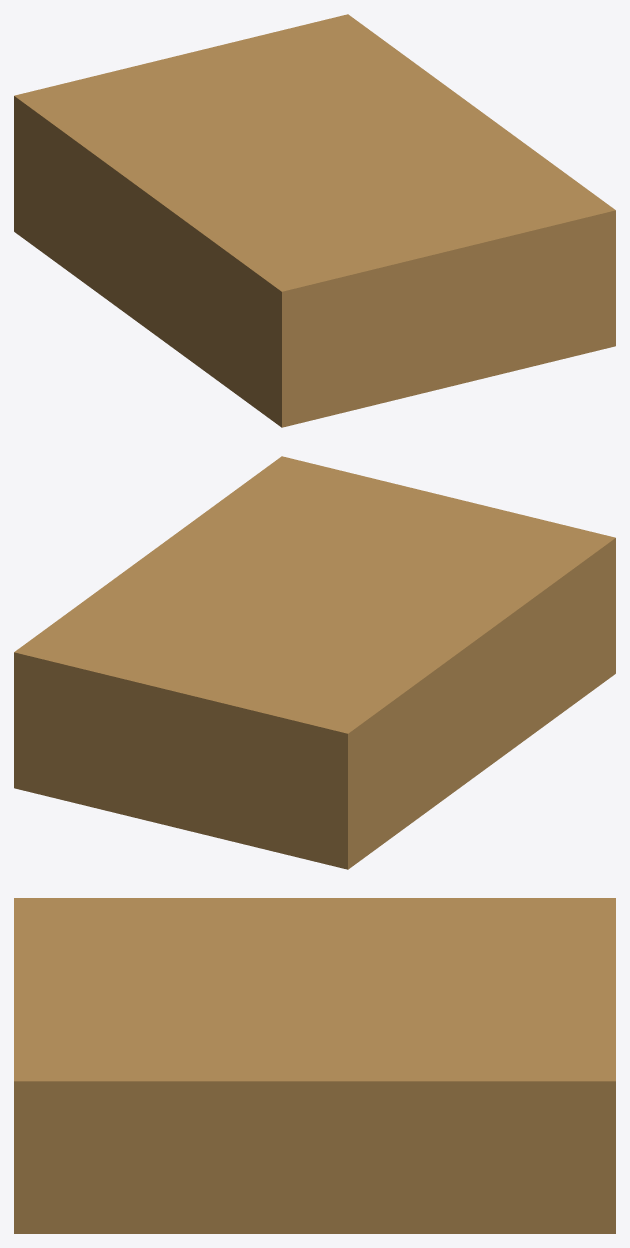
3 renders of one model, top to bottom at view 1: azimuth 30°, elevation 25°; view 2: azimuth 150°, elevation 25°; view 3: azimuth 270°, elevation 25°, orthographic. The views are drawn at different scales.
Visible parts, largest first — view 1: RUN-027-S03-ribbon; view 2: RUN-027-S03-ribbon; view 3: RUN-027-S03-ribbon.
Part boxes in pixels (left/top/right/bottom): RUN-027-S03-ribbon: left=14, top=14, right=615, bottom=427; RUN-027-S03-ribbon: left=14, top=456, right=615, bottom=869; RUN-027-S03-ribbon: left=14, top=898, right=615, bottom=1233.
Bounding box in the file's own units: 0.09 × 0.035 × 0.125.
